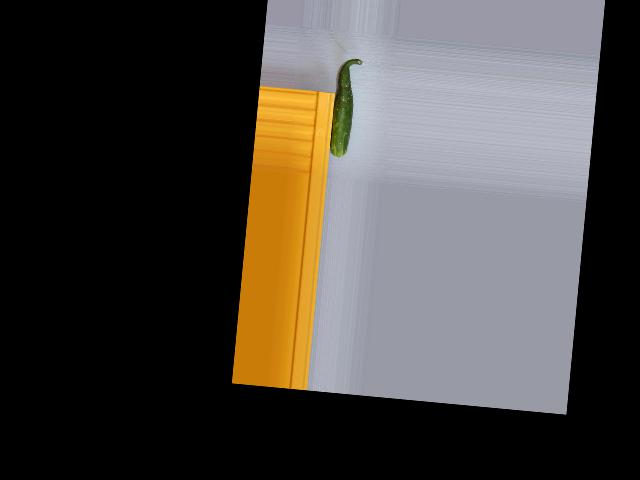cucumber: (328, 56, 362, 157)
